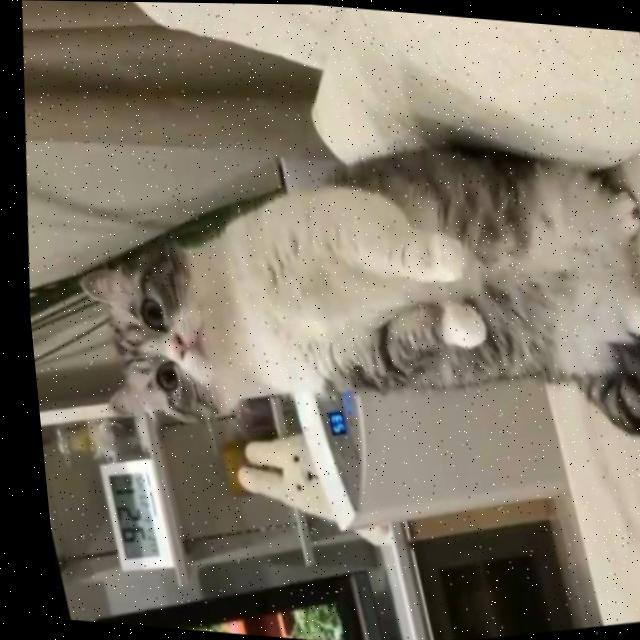Cats: (14, 51, 640, 538)
